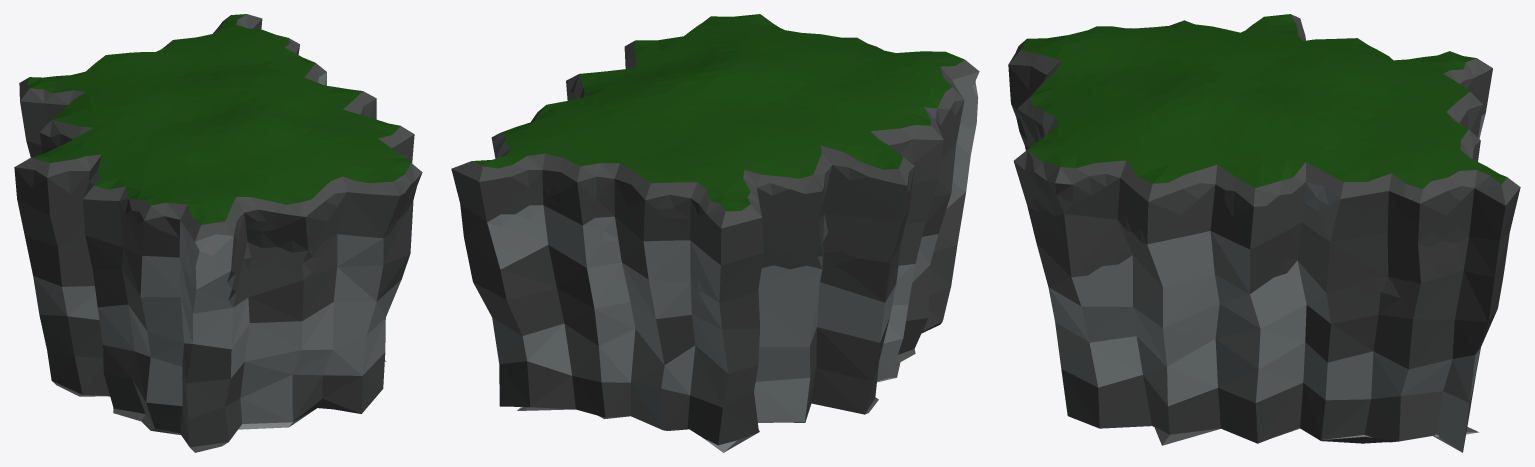
The model's file is Klippe1.fbx.
3 renders of one model, left to right at view 1: azimuth 30°, elevation 25°; view 2: azimuth 150°, elevation 25°; view 3: azimuth 270°, elevation 25°, orthographic. The views are drawn at different scales.
Visible parts, largest first — view 1: Klippe1; view 2: Klippe1; view 3: Klippe1.
Part boxes in pixels (box(x1,y1,x2,y2)): Klippe1: box(14, 14, 422, 452); Klippe1: box(451, 14, 979, 452); Klippe1: box(1008, 14, 1520, 452).
Size of the model in its own units: 519 by 384 by 595.
